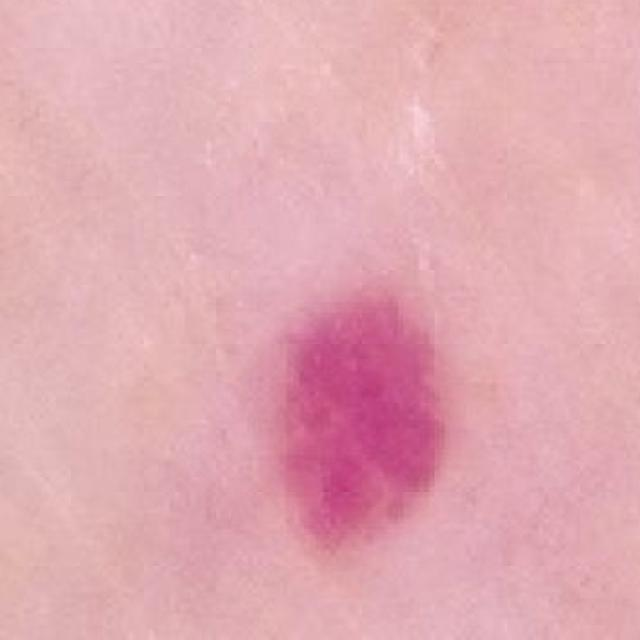VASC: (220, 213, 510, 626)
